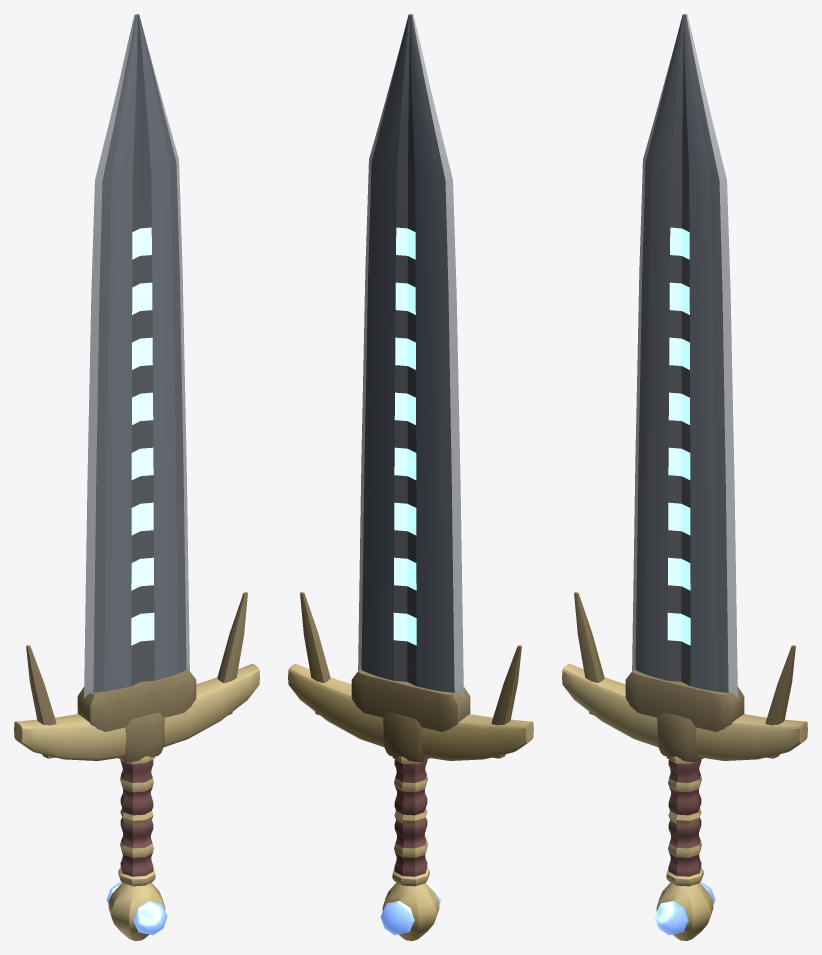
The model's file is duskwarden.glb.
3 renders of one model, left to right at view 1: azimuth 30°, elevation 25°; view 2: azimuth 150°, elevation 25°; view 3: azimuth 330°, elevation 25°, orthographic.
Parts seen in each view (by area): view 1: WPN_03_Sword_T3_Legendary__BLADE.001, WPN_03_Sword_T3_Legendary__GUARD.001, WPN_03_Sword_T3_Legendary__GRIP.001, WPN_03_Sword_T3_Legendary__POMMEL.001; view 2: WPN_03_Sword_T3_Legendary__BLADE.001, WPN_03_Sword_T3_Legendary__GUARD.001, WPN_03_Sword_T3_Legendary__GRIP.001, WPN_03_Sword_T3_Legendary__POMMEL.001; view 3: WPN_03_Sword_T3_Legendary__BLADE.001, WPN_03_Sword_T3_Legendary__GUARD.001, WPN_03_Sword_T3_Legendary__GRIP.001, WPN_03_Sword_T3_Legendary__POMMEL.001.
Part boxes in pixels (x1,y1,x2,y2): WPN_03_Sword_T3_Legendary__BLADE.001: (84, 14, 189, 697); WPN_03_Sword_T3_Legendary__GUARD.001: (14, 592, 259, 762); WPN_03_Sword_T3_Legendary__GRIP.001: (118, 756, 155, 886); WPN_03_Sword_T3_Legendary__POMMEL.001: (106, 882, 167, 940); WPN_03_Sword_T3_Legendary__BLADE.001: (358, 14, 463, 697); WPN_03_Sword_T3_Legendary__GUARD.001: (288, 592, 533, 762); WPN_03_Sword_T3_Legendary__GRIP.001: (392, 756, 429, 886); WPN_03_Sword_T3_Legendary__POMMEL.001: (380, 882, 441, 940); WPN_03_Sword_T3_Legendary__BLADE.001: (632, 14, 737, 697); WPN_03_Sword_T3_Legendary__GUARD.001: (562, 592, 807, 762); WPN_03_Sword_T3_Legendary__GRIP.001: (666, 756, 703, 886); WPN_03_Sword_T3_Legendary__POMMEL.001: (654, 882, 715, 940).
Size of the model in its own units: 1.02 by 3.8 by 0.308.
Materials: 1 (1 with a texture image).
